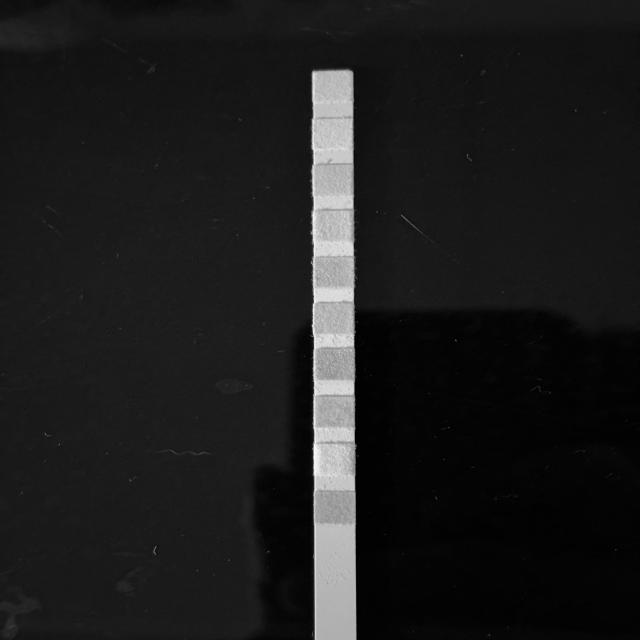Bilirubin: (315, 443, 354, 472)
Blood: (315, 304, 353, 333)
Glucose: (316, 492, 355, 522)
Ketone: (316, 396, 354, 426)
Leukocytes: (314, 73, 352, 100)
Nitrite: (313, 120, 352, 148)
Protein: (315, 211, 352, 241)
SpGravity: (315, 350, 354, 379)
Urobilinogen: (314, 165, 352, 196)
background: (0, 0, 640, 640)
pH: (316, 259, 354, 288)
strip: (314, 71, 356, 600)
